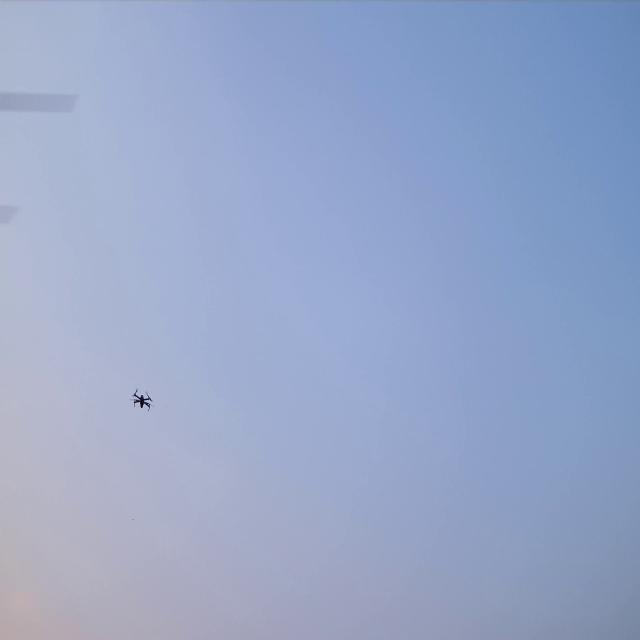UAV: (128, 386, 156, 412)
